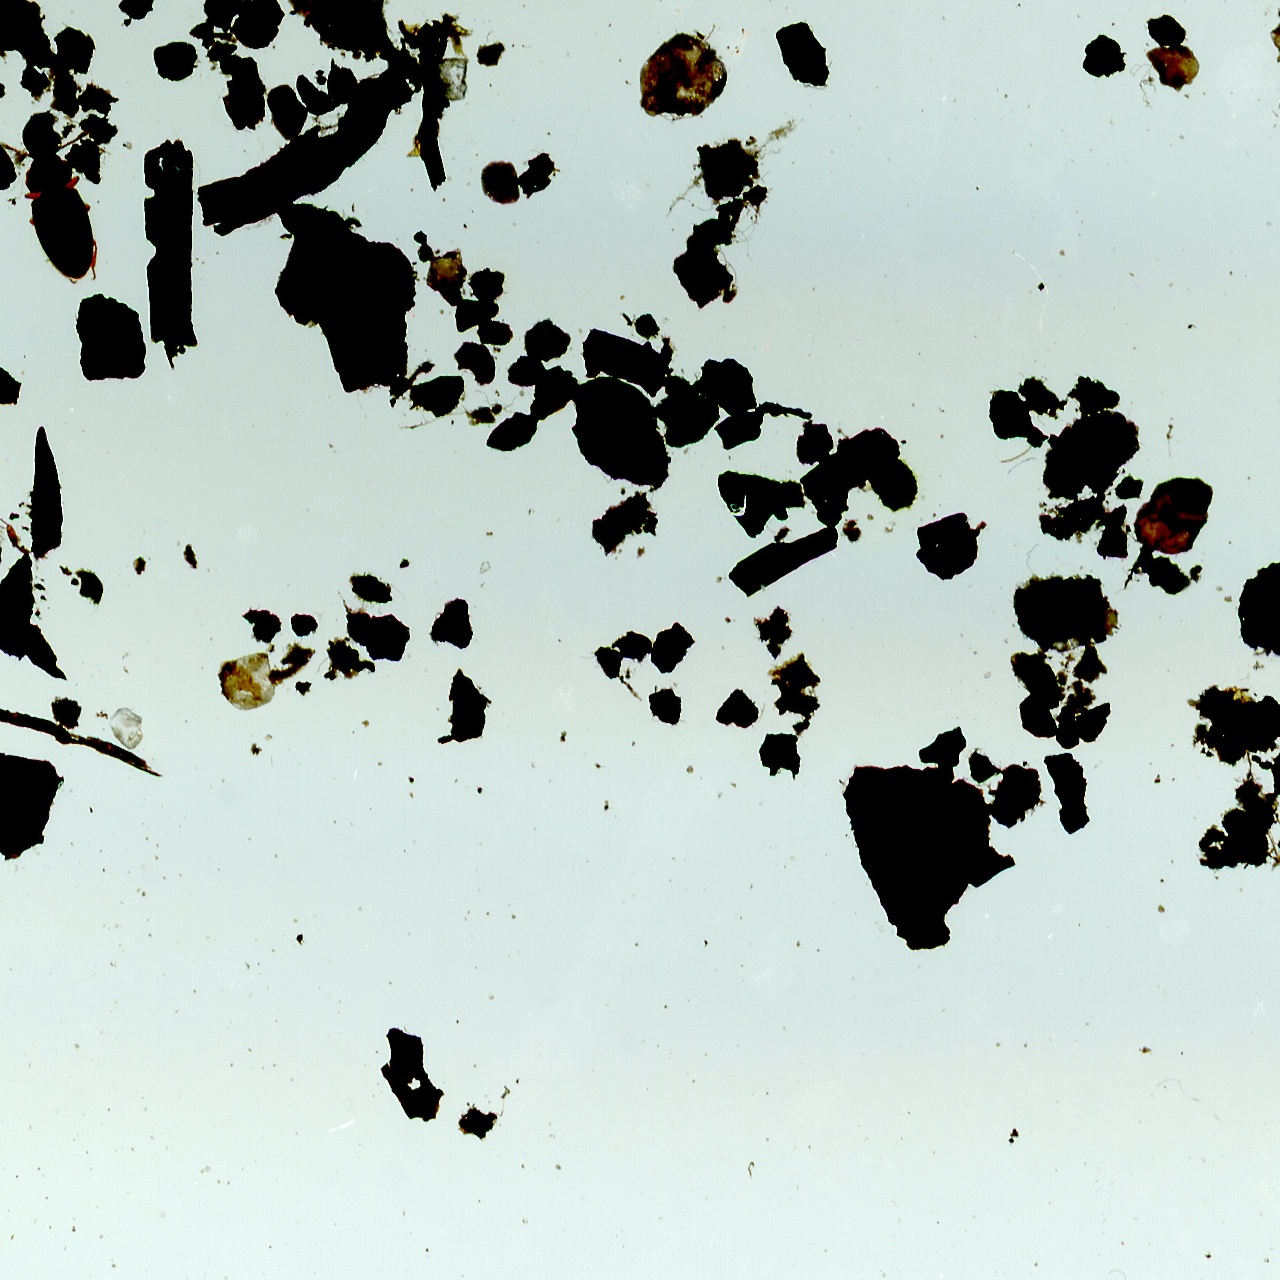arthropod: (0, 130, 120, 290)
